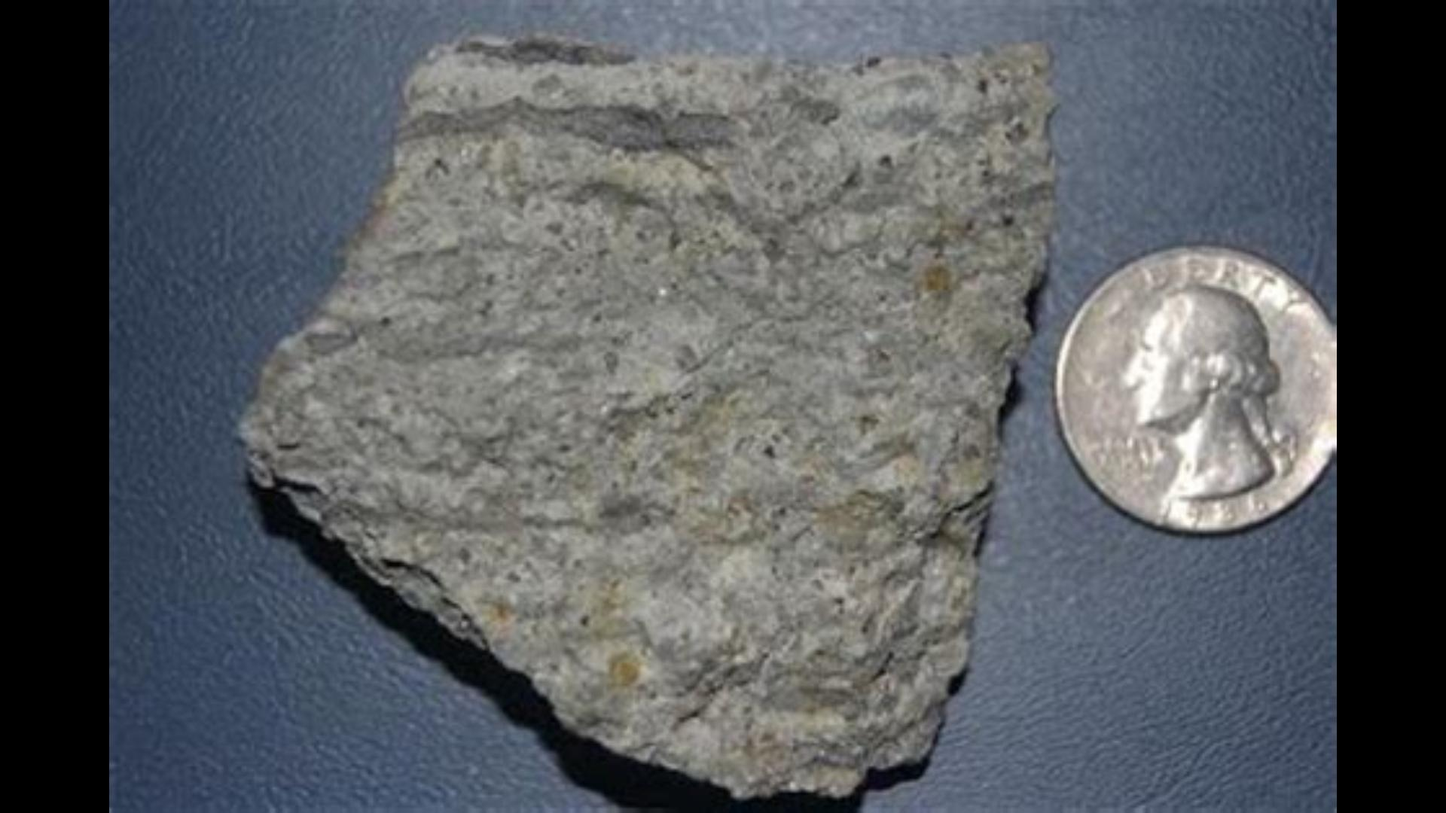rock: (244, 39, 1044, 797)
